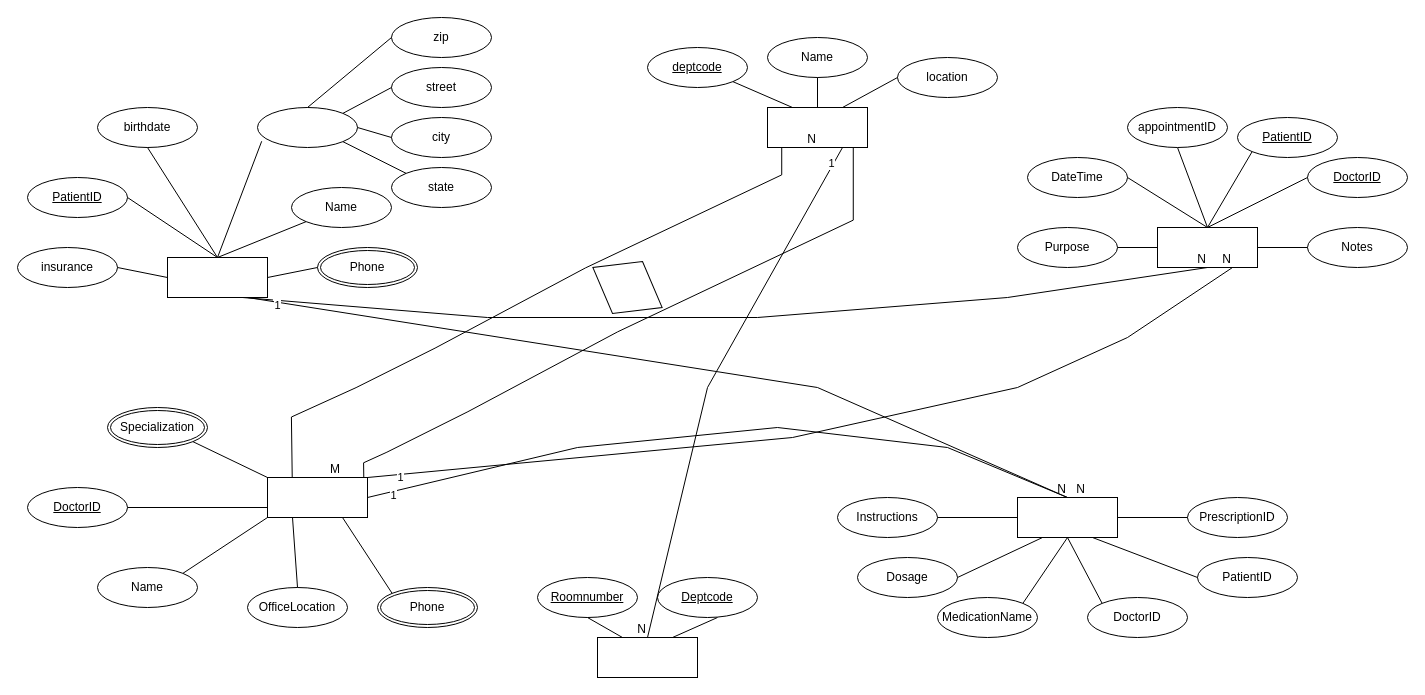
Some shapes in this 1425 by 695 pixel diagram are drawn without their labels. The centre of each missing label's shape, as x and y in pixels:
Address: the point at 307,127
appointment: the point at 1207,247
Department: the point at 817,127
Doctor: the point at 317,497
Hospitalroom: the point at 647,657
Patient: the point at 217,277
prescription: the point at 1067,517
Relationship: the point at 627,287
